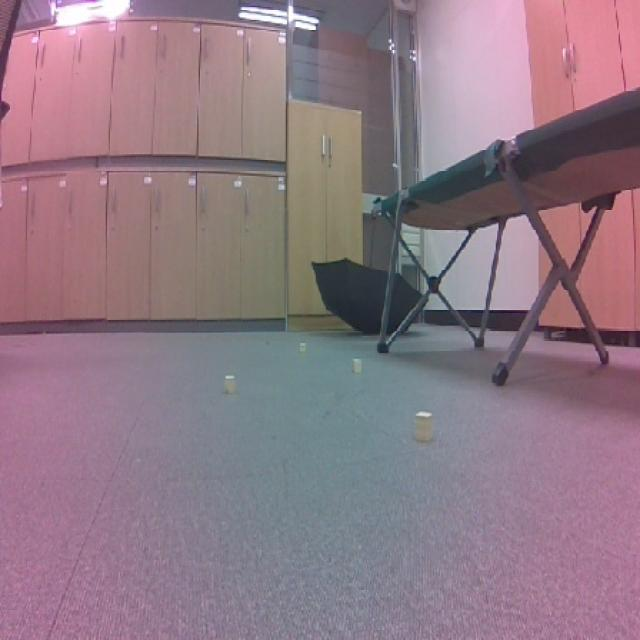obstacle: (404, 406, 442, 446)
